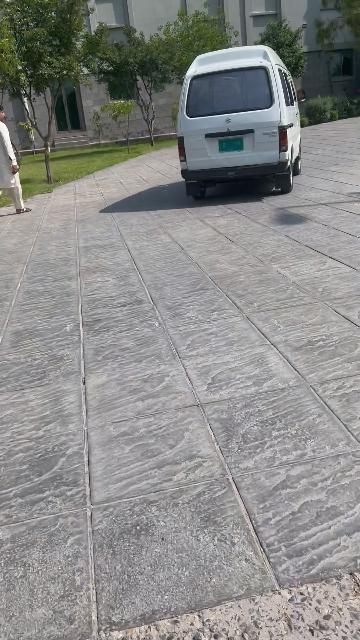plate: (217, 138, 246, 152)
